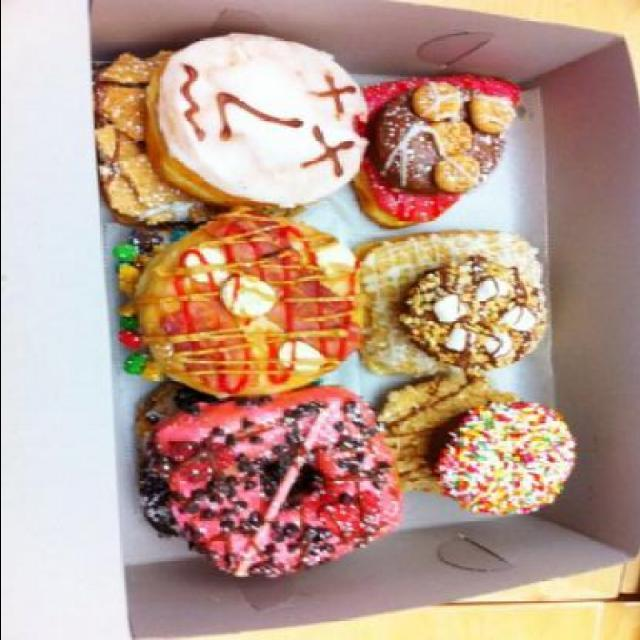Donuts: (104, 30, 578, 593)
